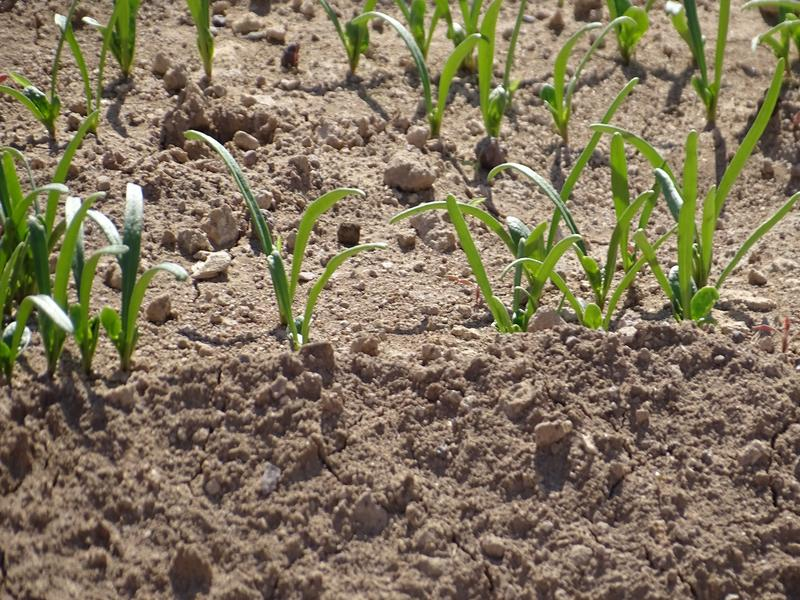Espinaca: (411, 139, 780, 315), (313, 3, 582, 130), (1, 147, 158, 363), (214, 147, 380, 345), (588, 4, 799, 103), (17, 18, 103, 132), (107, 1, 139, 77), (193, 1, 226, 74)
